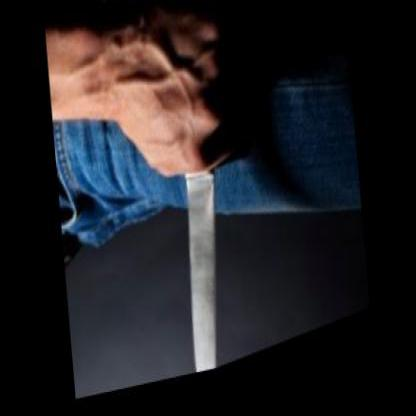knife: (156, 15, 252, 385)
